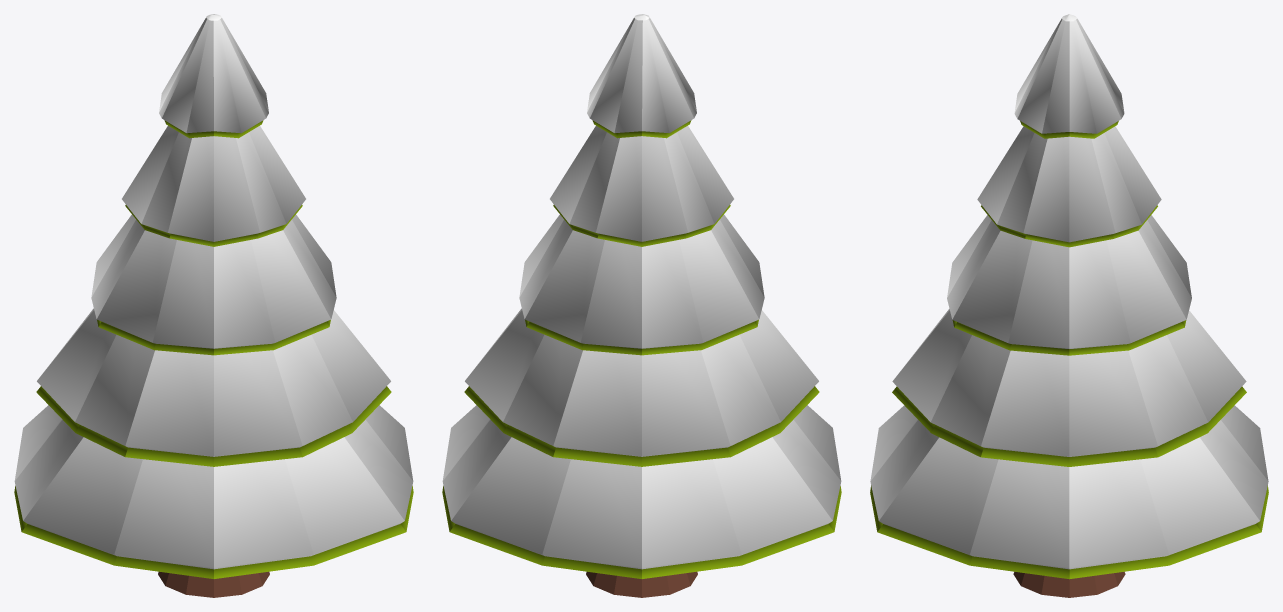
Rendered from Tree1.fbx.
3 renders of one model, left to right at view 1: azimuth 30°, elevation 25°; view 2: azimuth 150°, elevation 25°; view 3: azimuth 270°, elevation 25°, orthographic.
Visible parts, largest first — view 1: Tree, Base; view 2: Tree, Base; view 3: Tree, Base.
Part boxes in pixels (x1,y1,x2,y2): Tree: (14, 14, 413, 578); Base: (158, 571, 269, 597); Tree: (442, 14, 841, 578); Base: (586, 571, 697, 597); Tree: (870, 14, 1268, 579); Base: (1013, 571, 1125, 597).
Bounding box in the file's own units: 438 × 609 × 394.
